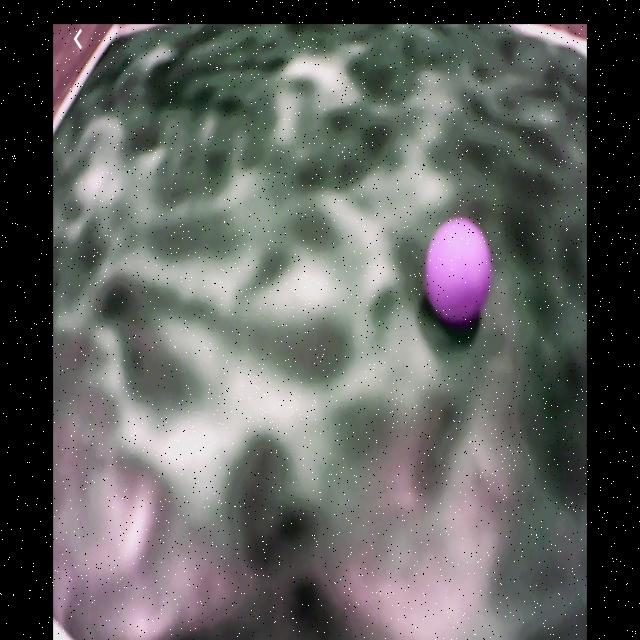ball: (424, 216, 494, 328)
